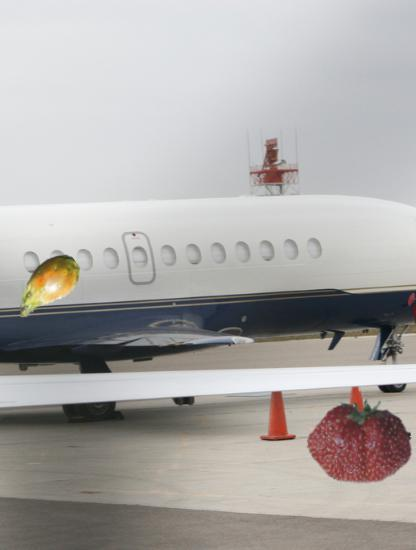Cactus: (7, 247, 85, 325)
Strawberry: (306, 389, 411, 494)
